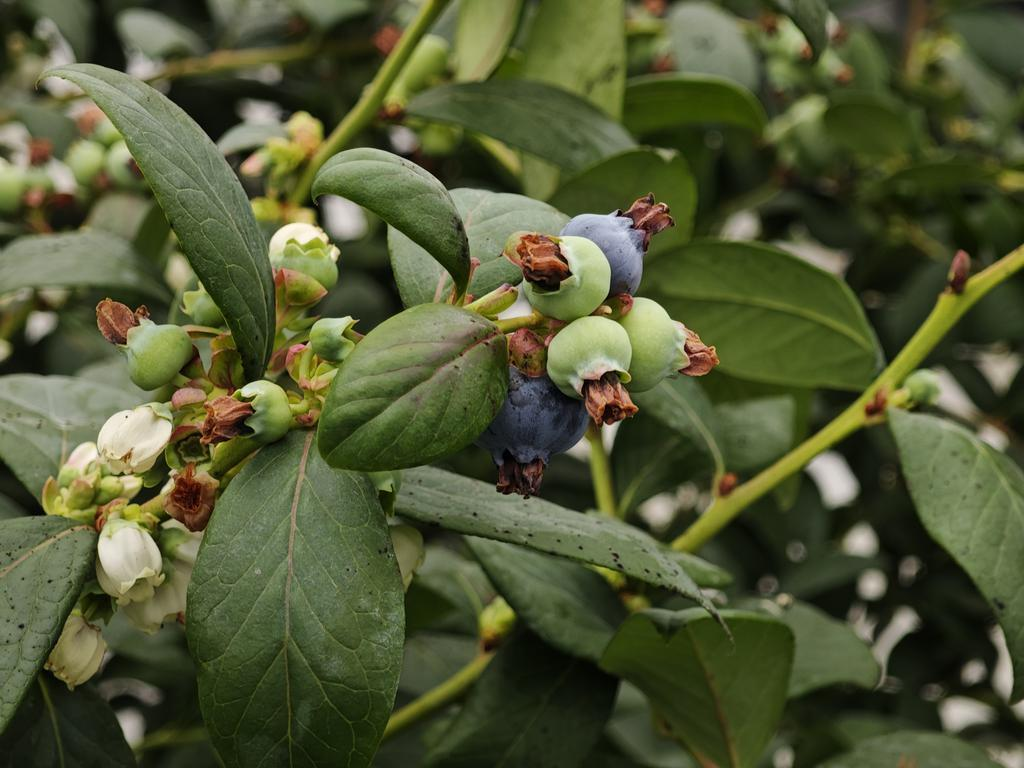RipeBlueBerry: (489, 373, 590, 471), (565, 211, 651, 296)
UnripeBlueBerry: (510, 231, 611, 321), (546, 314, 637, 402)
